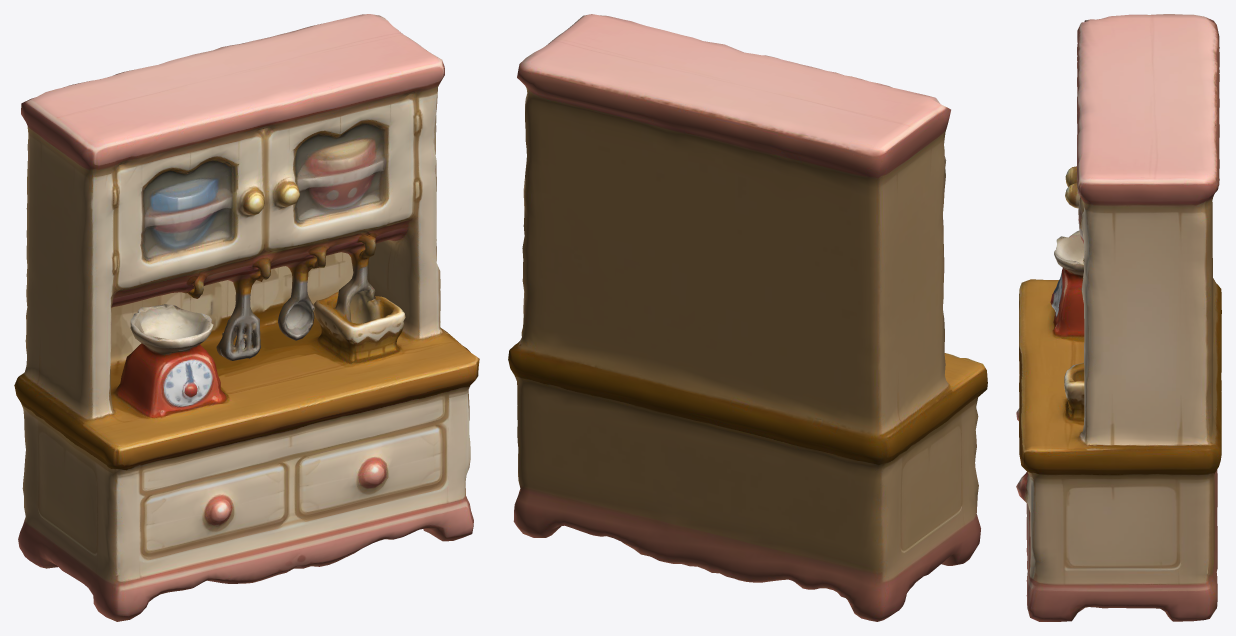
Rendered from Pink_White_kitchen_Cabinet.glb.
The picture shows the model from 3 angles, left to right: view 1: azimuth 30°, elevation 25°; view 2: azimuth 150°, elevation 25°; view 3: azimuth 270°, elevation 25°; orthographic projection. The views are drawn at different scales.
Visible parts, largest first — view 1: RETOPO; view 2: RETOPO; view 3: RETOPO.
Part boxes in pixels (x1=…): RETOPO: x1=14, y1=14, x2=479, y2=621; RETOPO: x1=508, y1=14, x2=987, y2=621; RETOPO: x1=1016, y1=14, x2=1221, y2=621.
Size of the model in its own units: 0.7591 by 0.9003 by 0.3778.
Materials: 1 (1 with a texture image).
